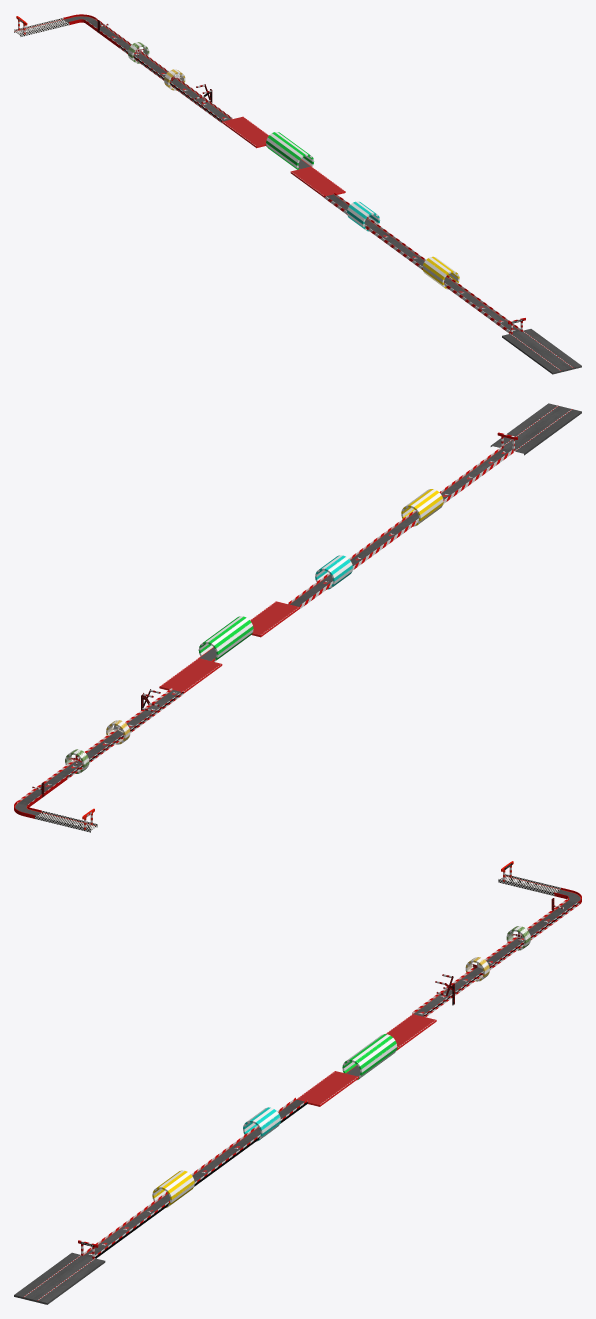
File: TRACK_5.fbx
The picture shows the model from 3 angles, top to bottom: view 1: azimuth 30°, elevation 25°; view 2: azimuth 150°, elevation 25°; view 3: azimuth 330°, elevation 25°; orthographic projection. The views are drawn at different scales.
Visible parts, largest first — view 1: SM_END_PATH, SM_PATH_1, SM_START_LANE, SM_PATH_2, SM_TUNNEL_3, SM_TUNNEL_1, SM_TUNNEL_2; view 2: SM_END_PATH, SM_PATH_1, SM_PATH_2, SM_START_LANE, SM_TUNNEL_3, SM_TUNNEL_1, SM_TUNNEL_2; view 3: SM_END_PATH, SM_PATH_1, SM_START_LANE, SM_PATH_2, SM_TUNNEL_3, SM_TUNNEL_1, SM_TUNNEL_2.
Boxes of the visible parts, bbox=[...] form: SM_END_PATH: bbox=[14, 14, 232, 122]; SM_PATH_1: bbox=[324, 192, 520, 333]; SM_START_LANE: bbox=[502, 329, 581, 374]; SM_PATH_2: bbox=[222, 116, 345, 197]; SM_TUNNEL_3: bbox=[266, 132, 314, 169]; SM_TUNNEL_1: bbox=[422, 256, 459, 289]; SM_TUNNEL_2: bbox=[347, 201, 380, 231]; SM_END_PATH: bbox=[14, 688, 183, 832]; SM_PATH_1: bbox=[288, 446, 513, 608]; SM_PATH_2: bbox=[159, 601, 299, 693]; SM_START_LANE: bbox=[490, 403, 581, 455]; SM_TUNNEL_3: bbox=[198, 616, 253, 661]; SM_TUNNEL_1: bbox=[401, 489, 443, 526]; SM_TUNNEL_2: bbox=[315, 555, 352, 589]; SM_END_PATH: bbox=[412, 874, 581, 1017]; SM_PATH_1: bbox=[83, 1097, 307, 1258]; SM_START_LANE: bbox=[14, 1252, 105, 1304]; SM_PATH_2: bbox=[296, 1014, 436, 1106]; SM_TUNNEL_3: bbox=[342, 1034, 397, 1080]; SM_TUNNEL_1: bbox=[152, 1170, 194, 1207]; SM_TUNNEL_2: bbox=[243, 1107, 280, 1141].
Bounding box in the file's own units: 10557 × 2703 × 101932.
4 materials, 4 textured.
